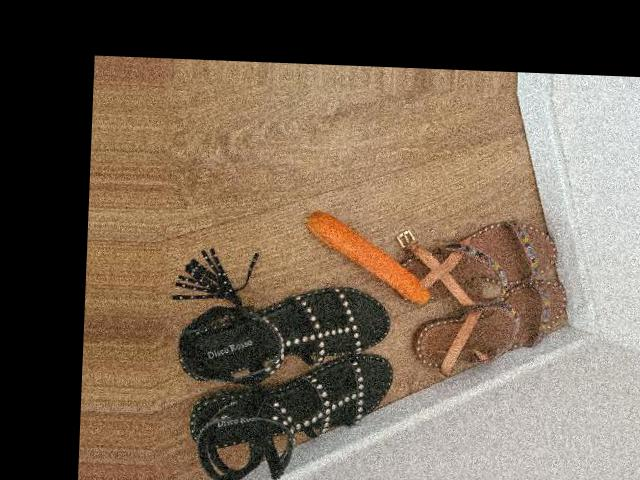carrot: (302, 213, 433, 303)
